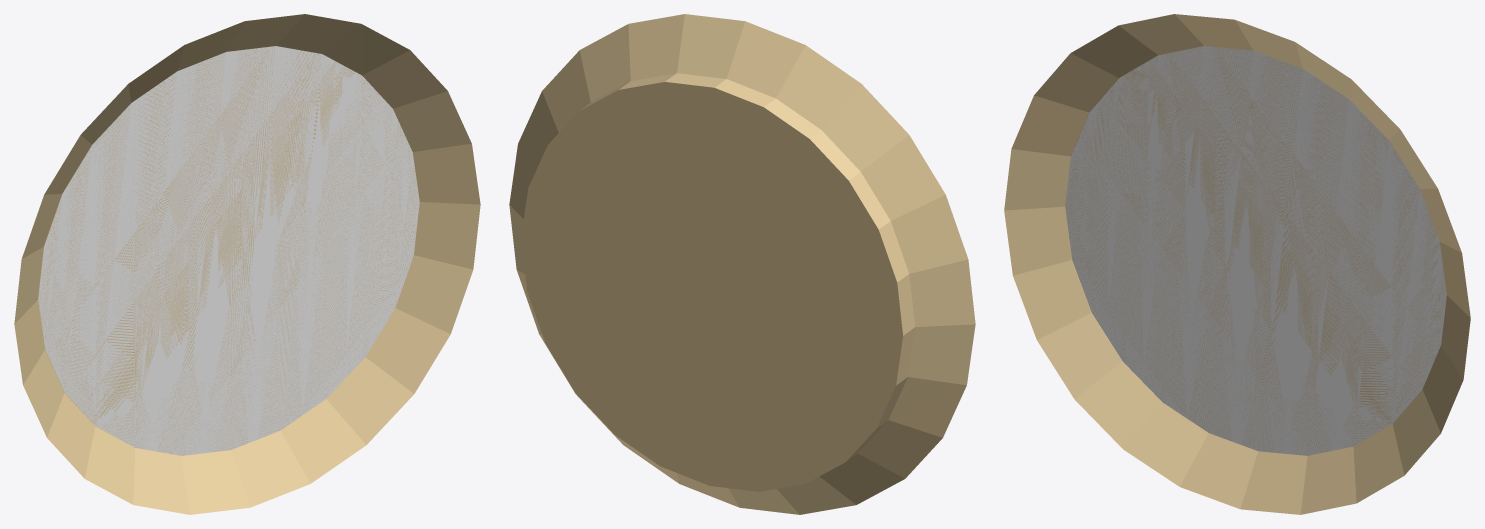
3 views of the same model, side by side, from view 1: azimuth 30°, elevation 25°; view 2: azimuth 150°, elevation 25°; view 3: azimuth 330°, elevation 25° (orthographic).
Parts seen in each view (by area): view 1: plate; view 2: plate; view 3: plate.
Boxes of the visible parts, bbox=[...] form: plate: bbox=[14, 14, 480, 514]; plate: bbox=[509, 14, 975, 514]; plate: bbox=[1004, 14, 1470, 514].
Size of the model in its own units: 364 by 364 by 41.25.
